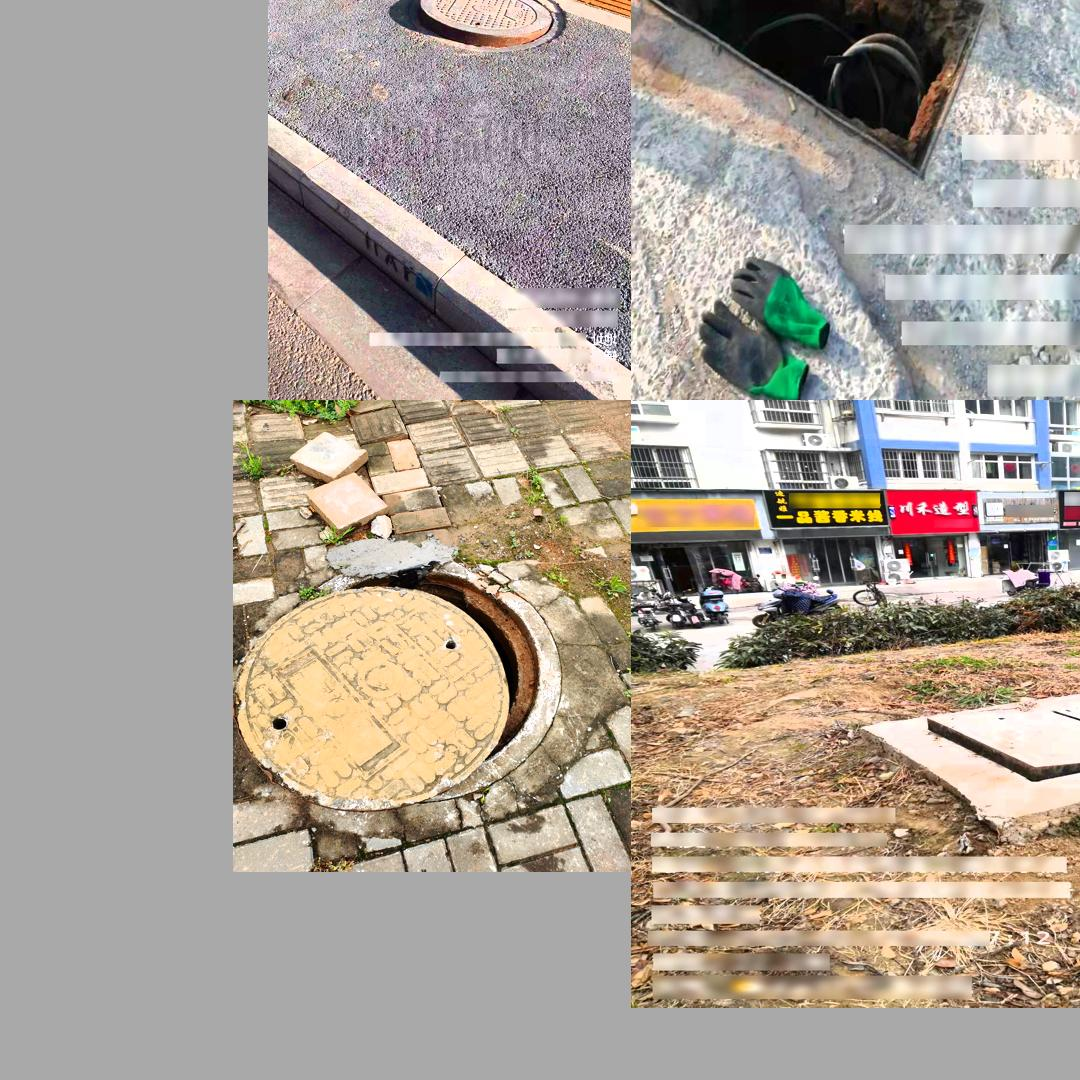uncovered: (631, 0, 1030, 181), (277, 569, 556, 786), (928, 687, 1080, 782), (420, 0, 563, 50)
